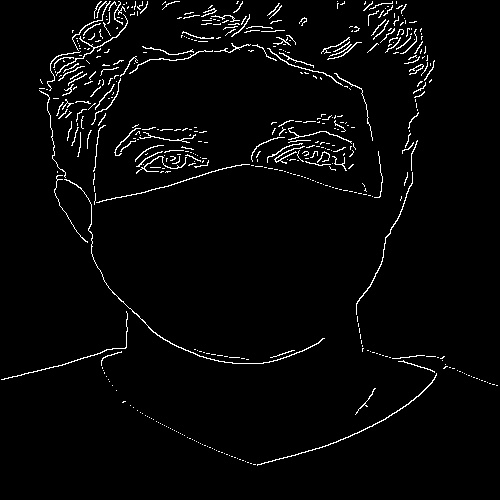mask: (93, 176, 390, 357)
